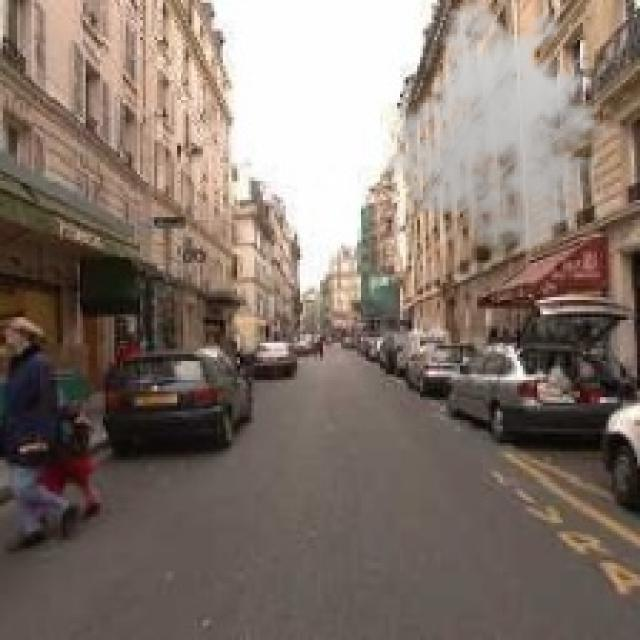Smoke: (380, 0, 626, 252)
